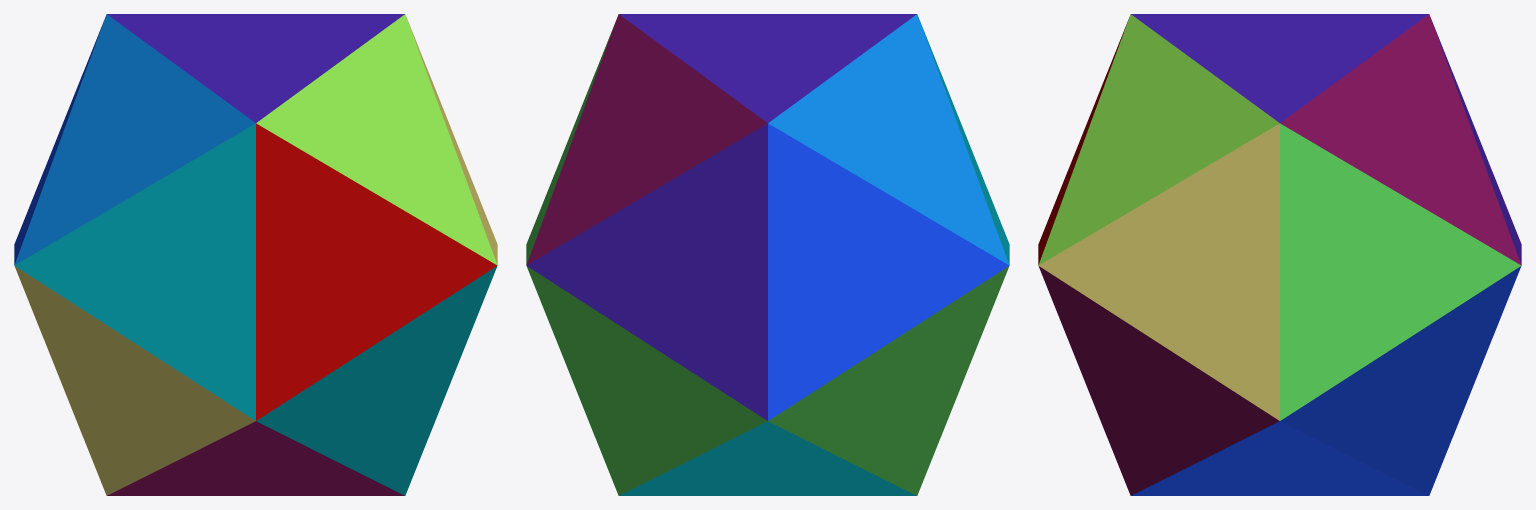
File: ico.glb
3 views of the same model, side by side, from view 1: azimuth 30°, elevation 25°; view 2: azimuth 150°, elevation 25°; view 3: azimuth 270°, elevation 25° (orthographic).
Visible parts, largest first — view 1: Cube.001; view 2: Cube.001; view 3: Cube.001.
Boxes of the visible parts, left/top/right/bottom form: Cube.001: left=14, top=14, right=497, bottom=495; Cube.001: left=526, top=14, right=1009, bottom=495; Cube.001: left=1038, top=14, right=1521, bottom=495.
Size of the model in its own units: 1.87 by 1.51 by 1.62.
